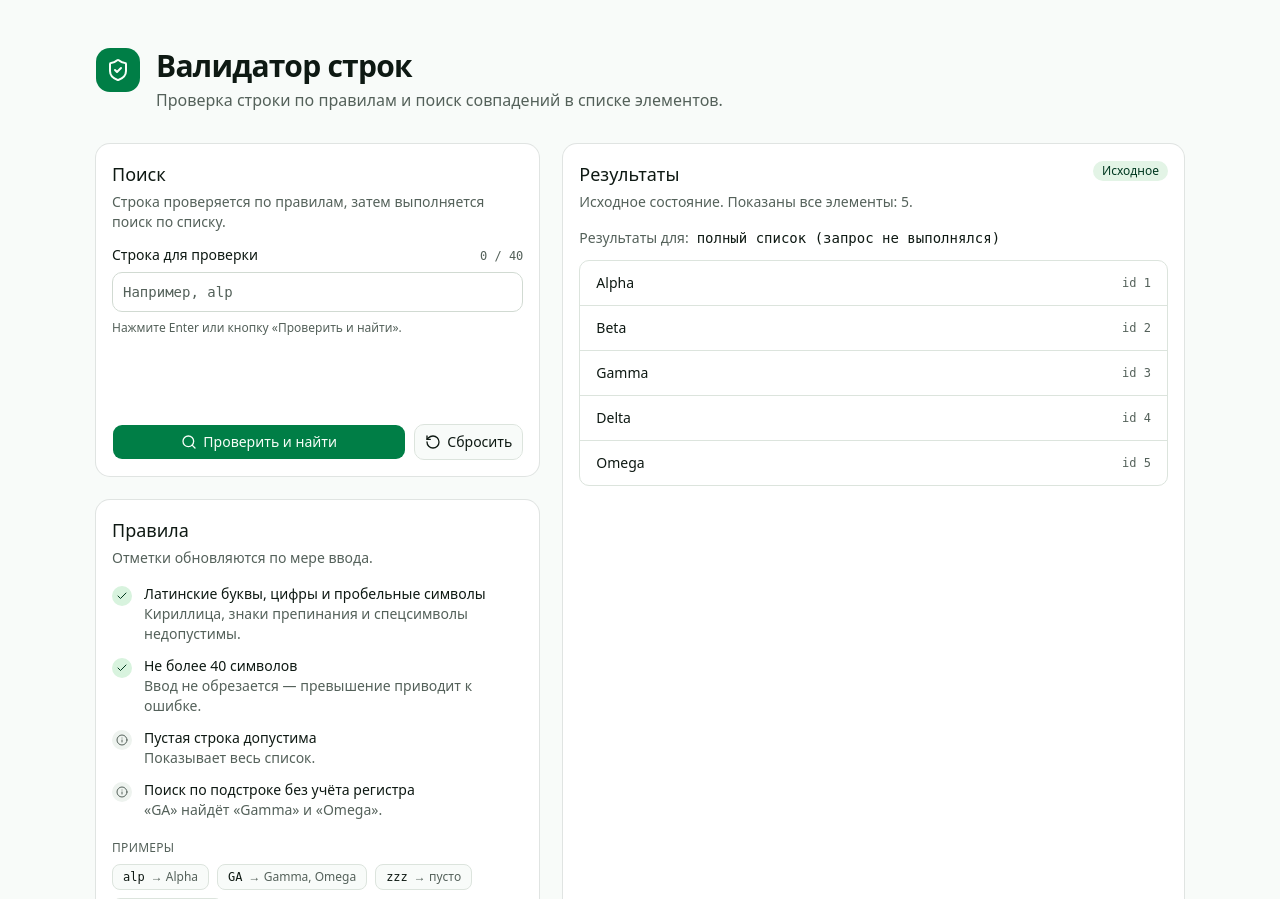
Scenario: Подменённые ответы сервера и состояния › preserves input and previous results on HTTP 500, and retry sends the current input
The image size is (1280, 899).
In the field labelled "Строка для проверки": [318, 292] box [112, 272, 523, 312], type "alp"
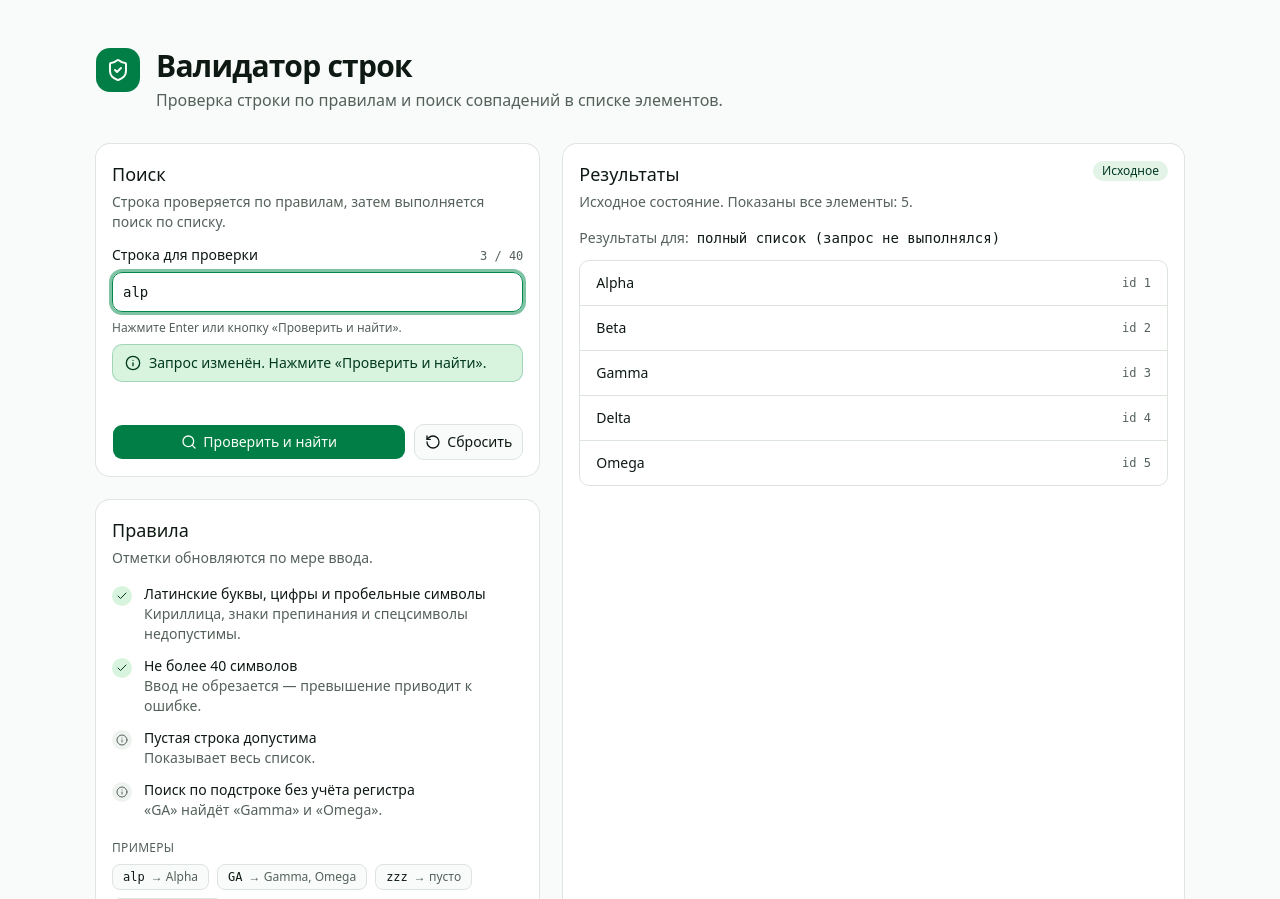
Click the button "Проверить и найти": [259, 442] box [112, 424, 406, 460]
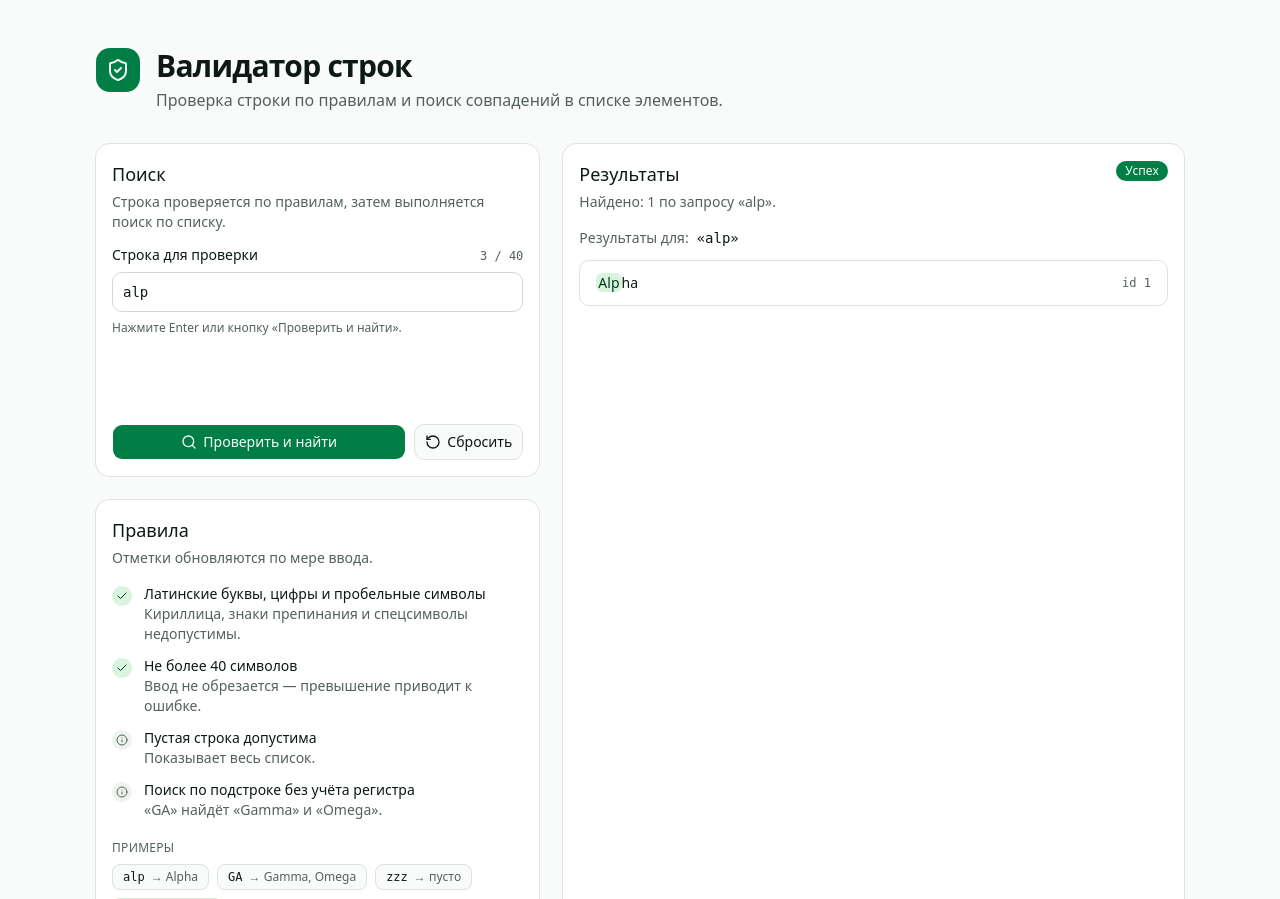
Replace the text in the field labelled "Строка для проверки" with "beta": [318, 292] box [112, 272, 523, 312]
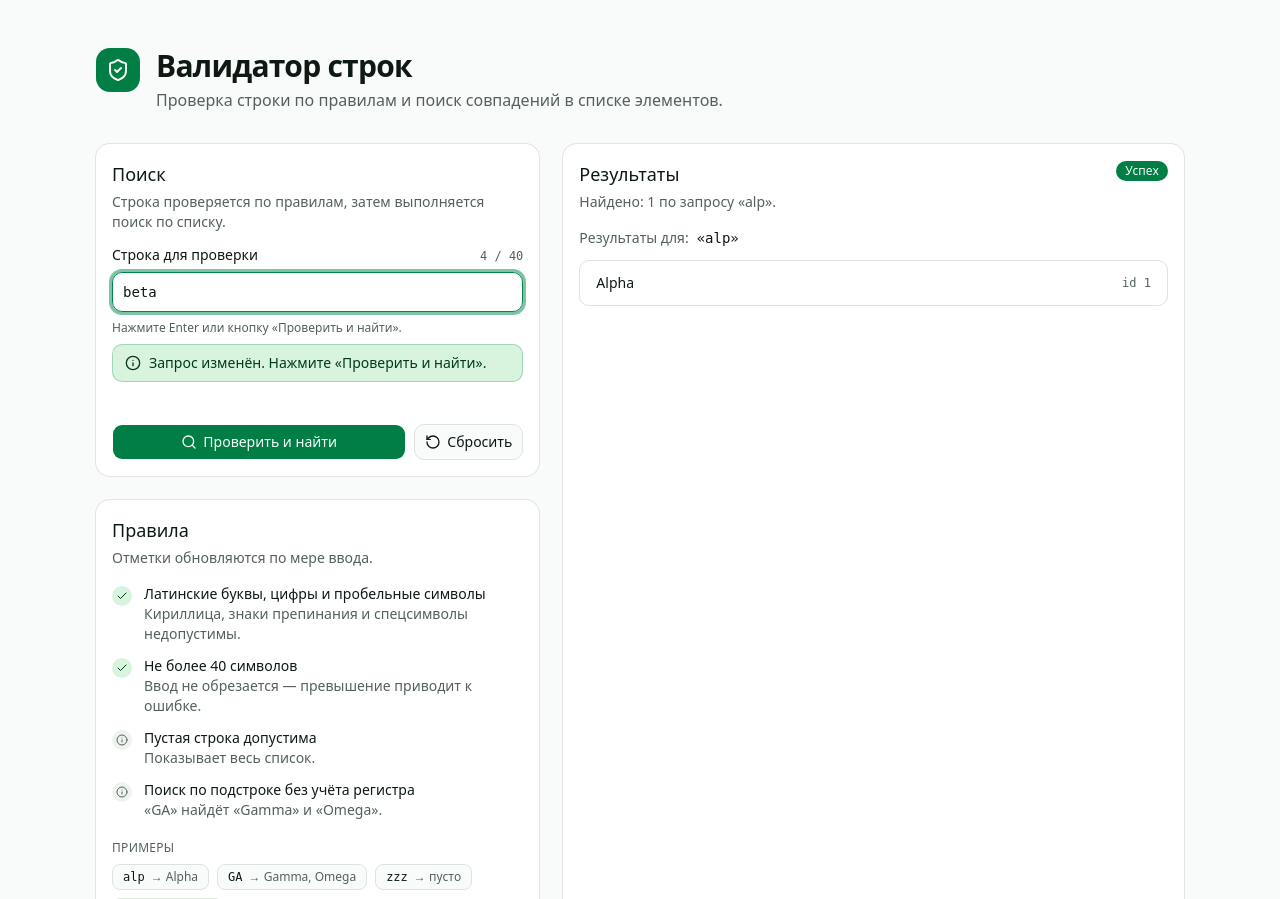
Click the button "Проверить и найти": [259, 442] box [112, 424, 406, 460]
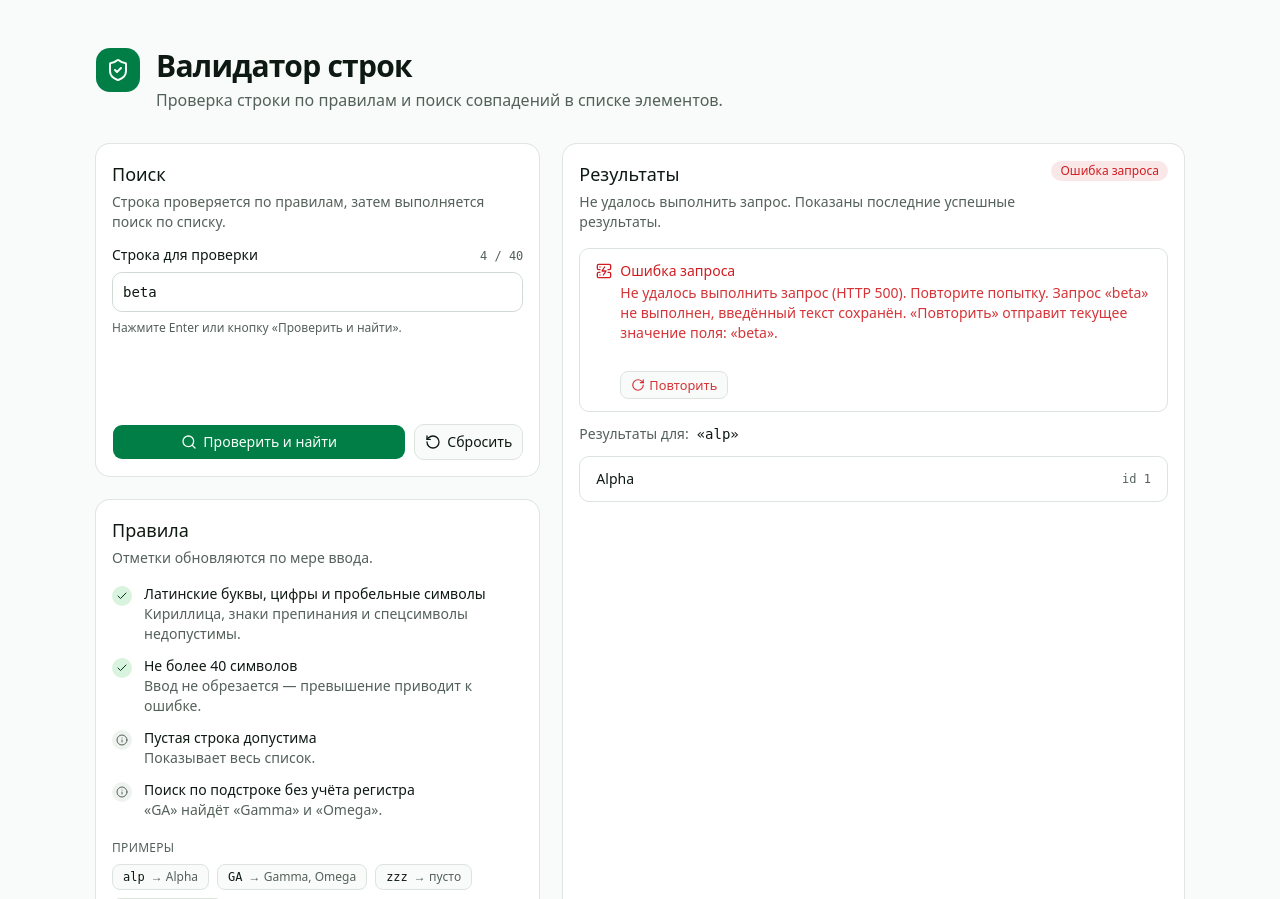
Expected: the text "Alpha" is shown, [596, 469, 634, 489]
Expected: the text "Не удалось выполнить запрос (HTTP 500)" is shown, [620, 283, 1049, 302]
Replace the text in the field labelled "Строка для проверки" with "GA": [318, 292] box [112, 272, 523, 312]
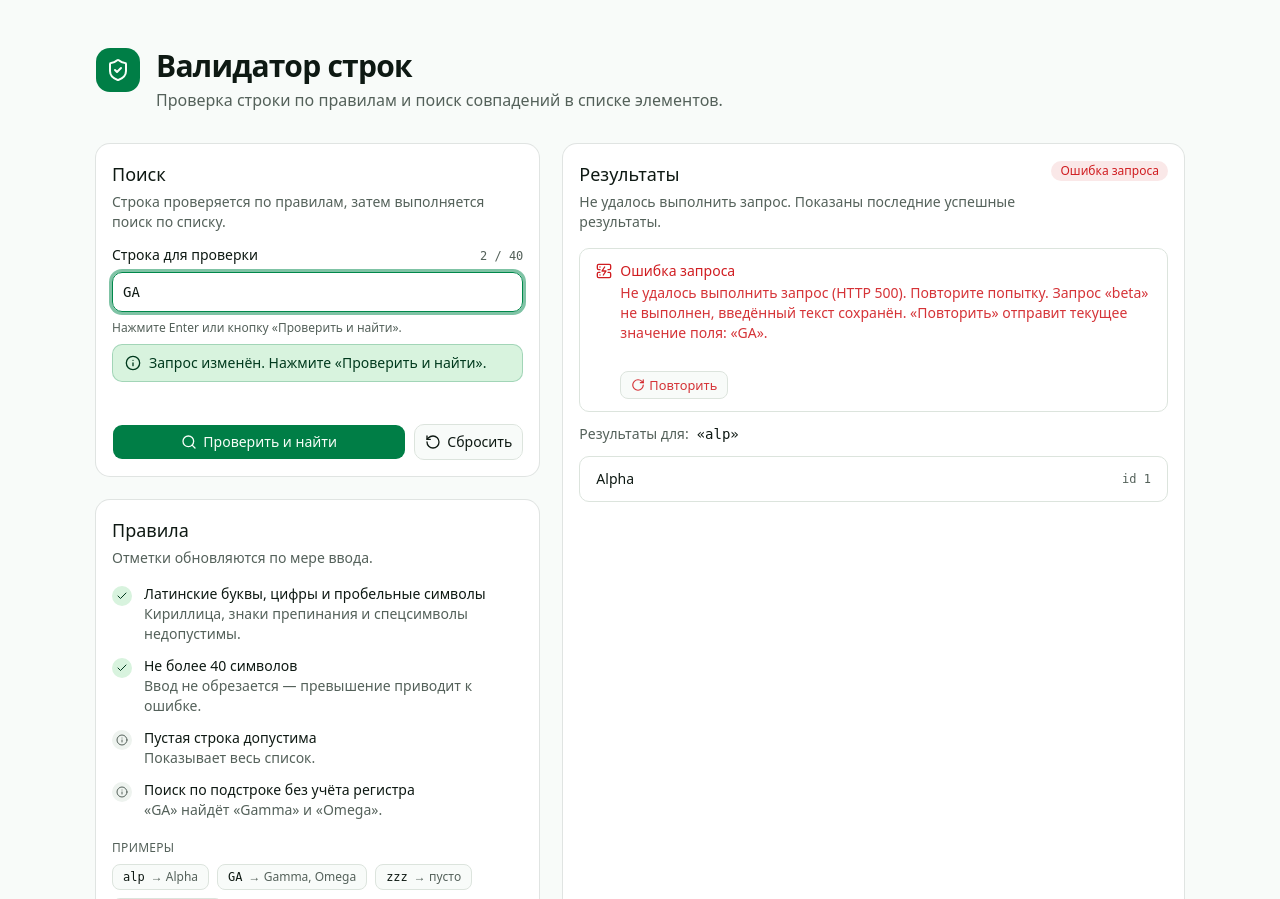
Click the button "Повторить": [674, 385] box [620, 371, 728, 399]
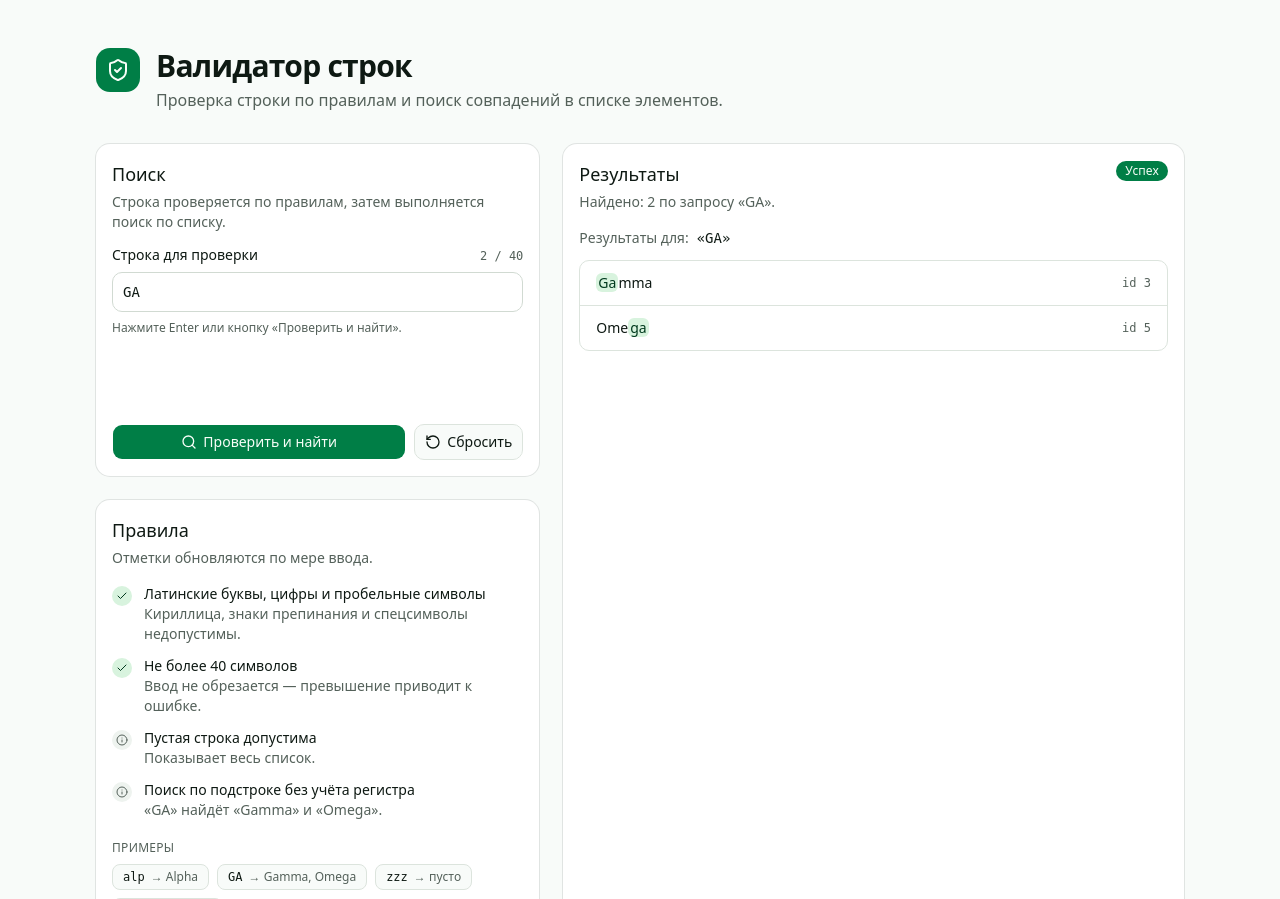
Expected: the text "Найдено: 2 по запросу «GA»." is shown, [579, 192, 775, 211]
